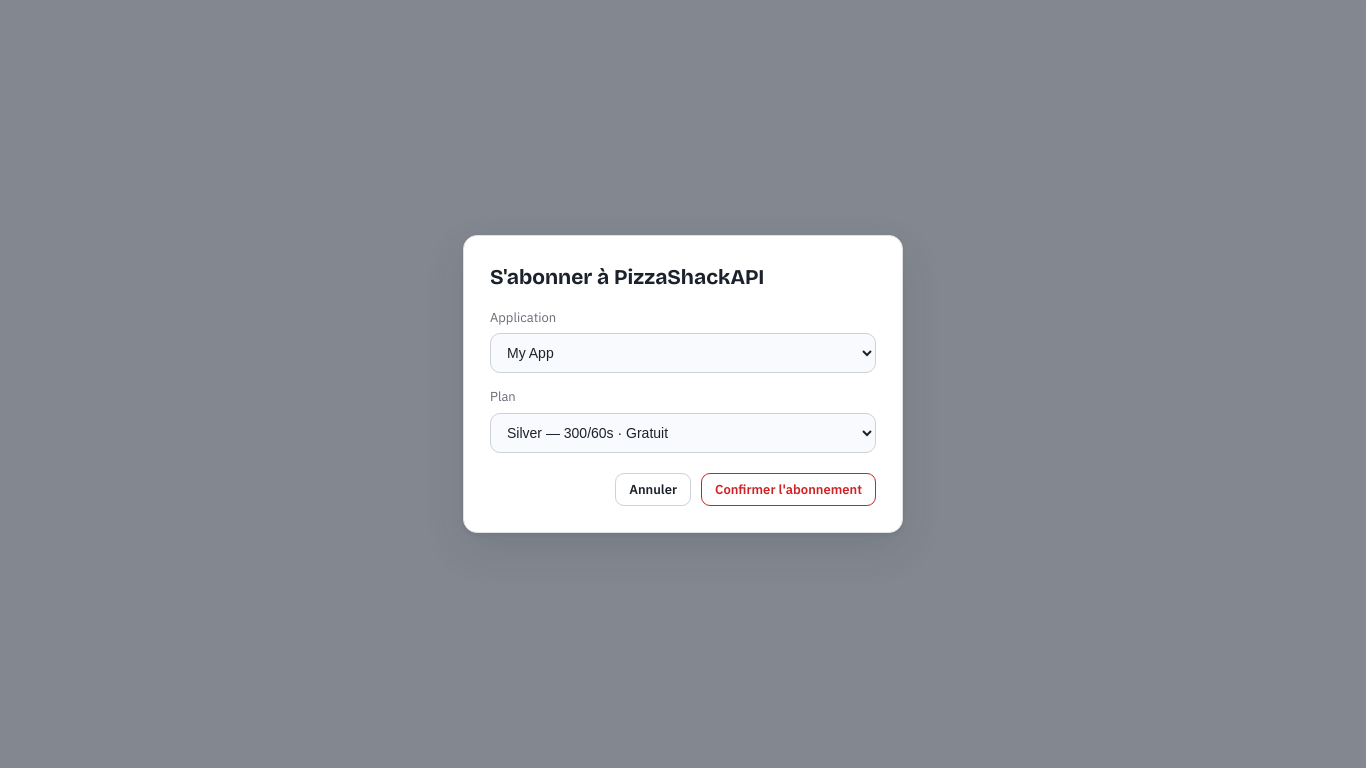
Test case: SubscribeModal › shows the server error when subscribe fails
Click the button "Confirmer l'abonnement". click: (789, 489)
box: [701, 473, 876, 506]
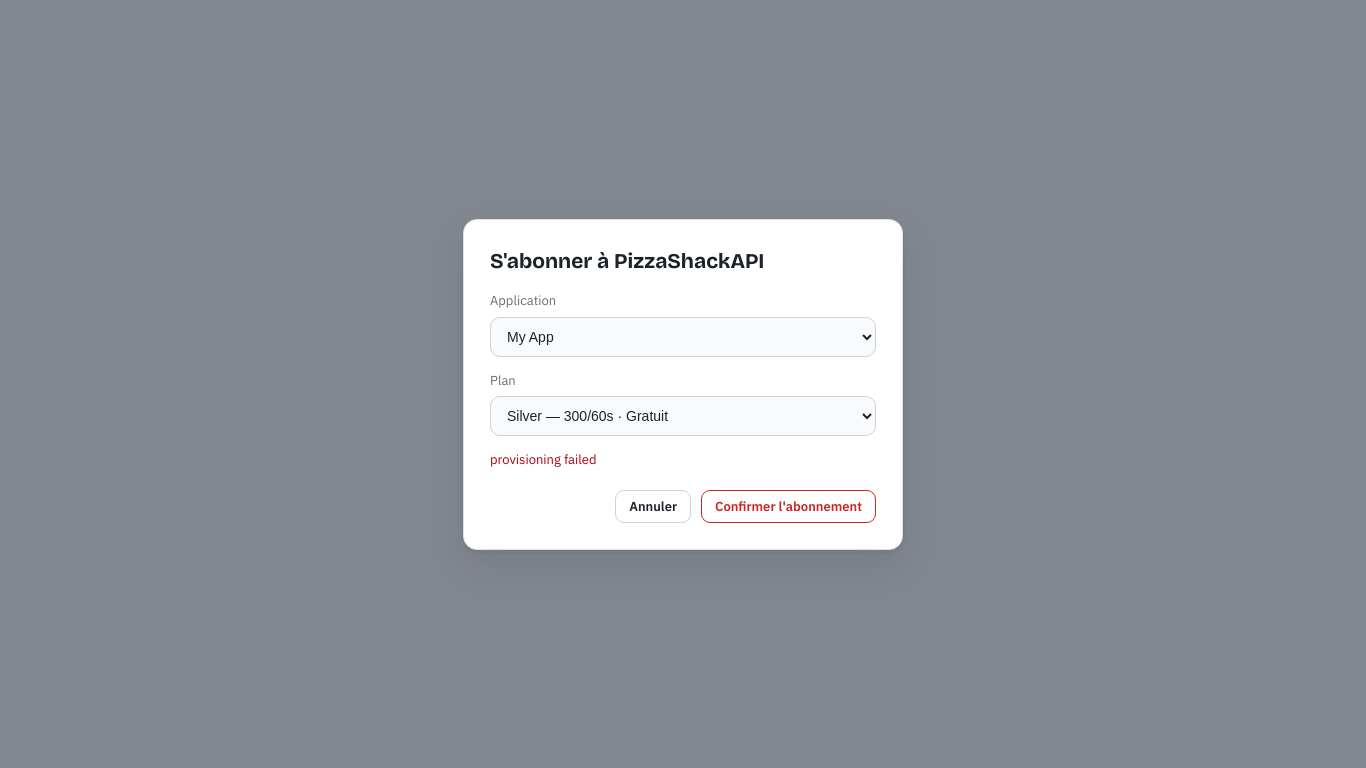
Now the text "provisioning failed" is shown, box [490, 451, 596, 468]
